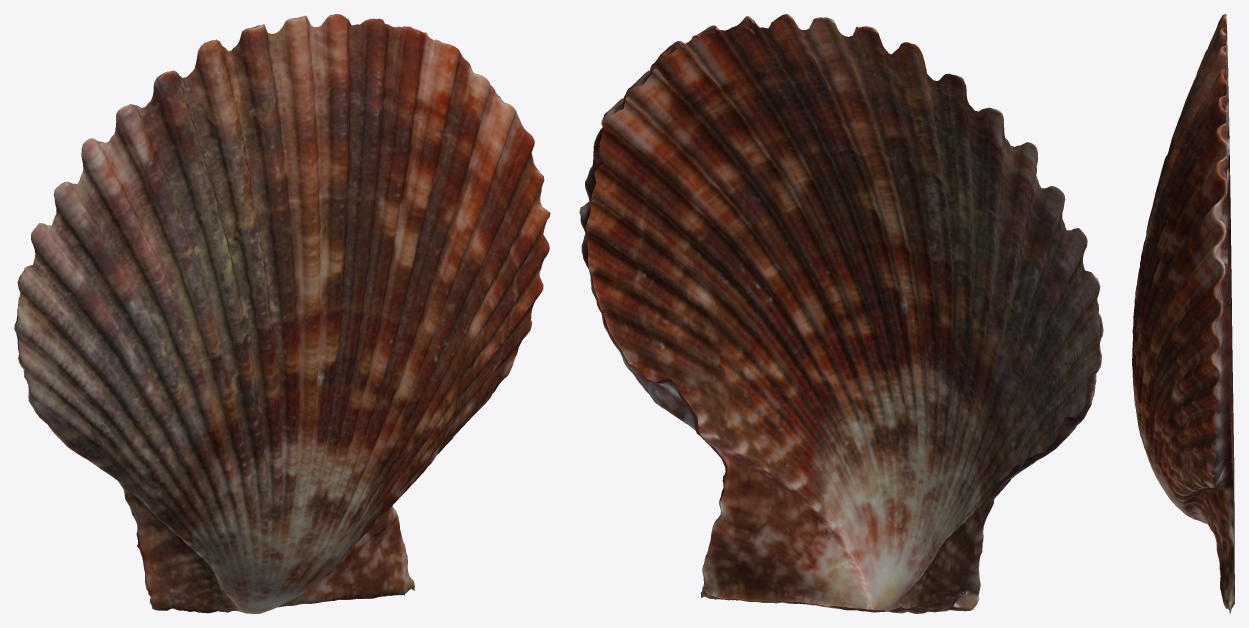
The model's file is flat_seashell.glb.
3 views of the same model, side by side, from view 1: azimuth 30°, elevation 25°; view 2: azimuth 150°, elevation 25°; view 3: azimuth 270°, elevation 25° (orthographic). The views are drawn at different scales.
Parts seen in each view (by area): view 1: Object_2; view 2: Object_2; view 3: Object_2.
Part boxes in pixels (x1,y1,x2,y2): Object_2: (14,14,550,613); Object_2: (579,14,1103,613); Object_2: (1132,14,1234,613).
Size of the model in its own units: 911 by 1000 by 181.
Materials: 1 (1 with a texture image).
